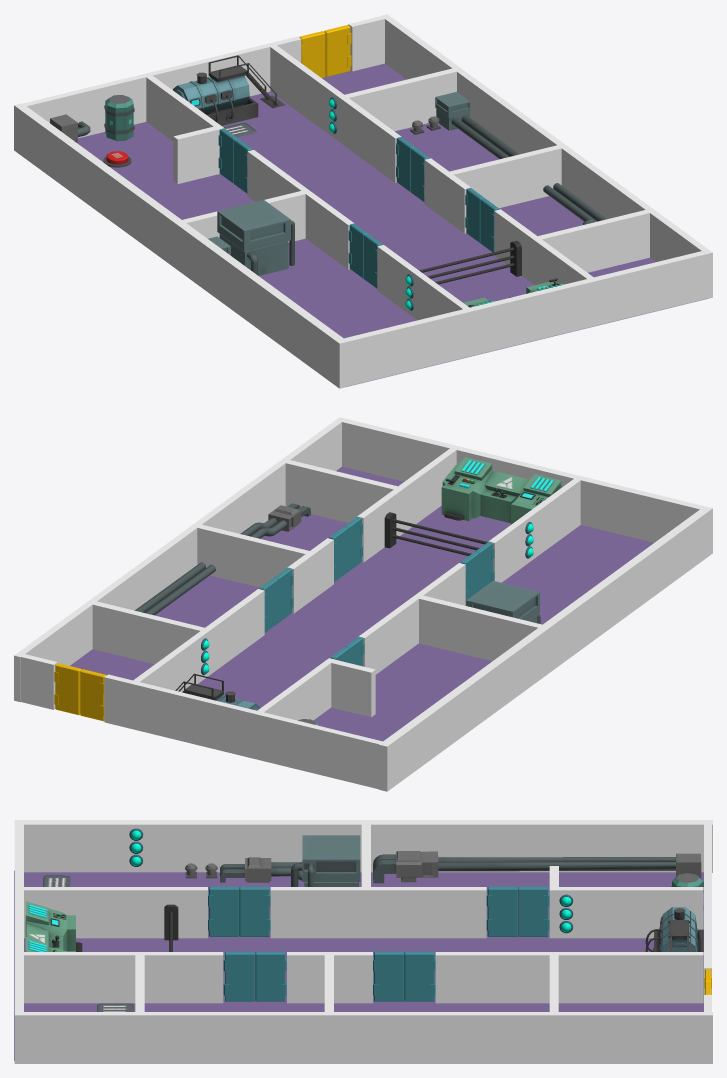
The model's file is maps_50.fbx.
3 renders of one model, top to bottom at view 1: azimuth 30°, elevation 25°; view 2: azimuth 150°, elevation 25°; view 3: azimuth 270°, elevation 25°, orthographic. The views are drawn at different scales.
Parts seen in each view (by area): view 1: wall_01_08_geo, wall_01_07_geo, wall_01_05_geo, wall_01_06_geo, wall_01_09_geo, wall_01_11_geo2, generatorStation_05_geo, wall_01_03_geo15, wall_01_03_geo14, wall_01_11_geo5, tankwater_geo, wall_01_03_geo13 (+14 smaller); view 2: wall_01_08_geo, wall_01_07_geo, wall_01_09_geo, wall_01_06_geo, wall_01_05_geo, table_01_geo, wall_01_11_geo2, wall_01_03_geo16, wall_01_03_geo13, wall_01_11_geo7, wall_01_03_geo15, wall_01_03_geo14 (+13 smaller); view 3: wall_01_06_geo, wall_01_07_geo, wall_01_08_geo, wall_01_11_geo2, wall_01_11_geo5, wall_01_11_geo8, wall_01_11_geo7, wall_01_11_geo4, polySurface177 (×4), polySurface174 (×4), generatorStation_03_geo, wall_01_11_geo6 (+11 smaller).
Boxes of the visible parts, bbox=[...] form: wall_01_08_geo: bbox=[78, 63, 708, 386]; wall_01_07_geo: bbox=[14, 103, 347, 388]; wall_01_05_geo: bbox=[344, 251, 706, 386]; wall_01_06_geo: bbox=[381, 14, 712, 299]; wall_01_09_geo: bbox=[23, 36, 301, 138]; wall_01_11_geo2: bbox=[270, 45, 401, 182]; generatorStation_05_geo: bbox=[217, 200, 294, 275]; wall_01_03_geo15: bbox=[538, 210, 649, 272]; wall_01_03_geo14: bbox=[449, 145, 561, 208]; wall_01_11_geo5: bbox=[247, 150, 354, 269]; tankwater_geo: bbox=[173, 55, 285, 125]; wall_01_03_geo13: bbox=[344, 68, 456, 131]; wall_01_08_geo: bbox=[70, 466, 653, 741]; wall_01_07_geo: bbox=[379, 506, 712, 791]; wall_01_09_geo: bbox=[104, 674, 382, 789]; wall_01_06_geo: bbox=[14, 417, 345, 702]; wall_01_05_geo: bbox=[342, 419, 703, 542]; table_01_geo: bbox=[441, 457, 562, 524]; wall_01_11_geo2: bbox=[133, 589, 264, 692]; wall_01_03_geo16: bbox=[419, 595, 541, 661]; wall_01_03_geo13: bbox=[92, 601, 204, 664]; wall_01_11_geo7: bbox=[488, 478, 580, 582]; wall_01_03_geo15: bbox=[285, 460, 397, 522]; wall_01_03_geo14: bbox=[197, 524, 309, 587]; wall_01_06_geo: bbox=[14, 1012, 712, 1063]; wall_01_07_geo: bbox=[14, 820, 712, 872]; wall_01_08_geo: bbox=[14, 870, 703, 1060]; wall_01_11_geo2: bbox=[435, 952, 703, 1003]; wall_01_11_geo5: bbox=[270, 887, 486, 938]; wall_01_11_geo8: bbox=[23, 952, 223, 1003]; wall_01_11_geo7: bbox=[23, 887, 207, 938]; wall_01_11_geo4: bbox=[549, 887, 703, 938]; polySurface177 (×4): bbox=[239, 886, 549, 1001]; polySurface174 (×4): bbox=[208, 886, 517, 1001]; generatorStation_03_geo: bbox=[373, 850, 703, 891]; wall_01_11_geo6: bbox=[287, 952, 372, 1003].
Size of the model in its own units: 76.85 by 10.29 by 116.
Materials: 11 (11 with a texture image).
